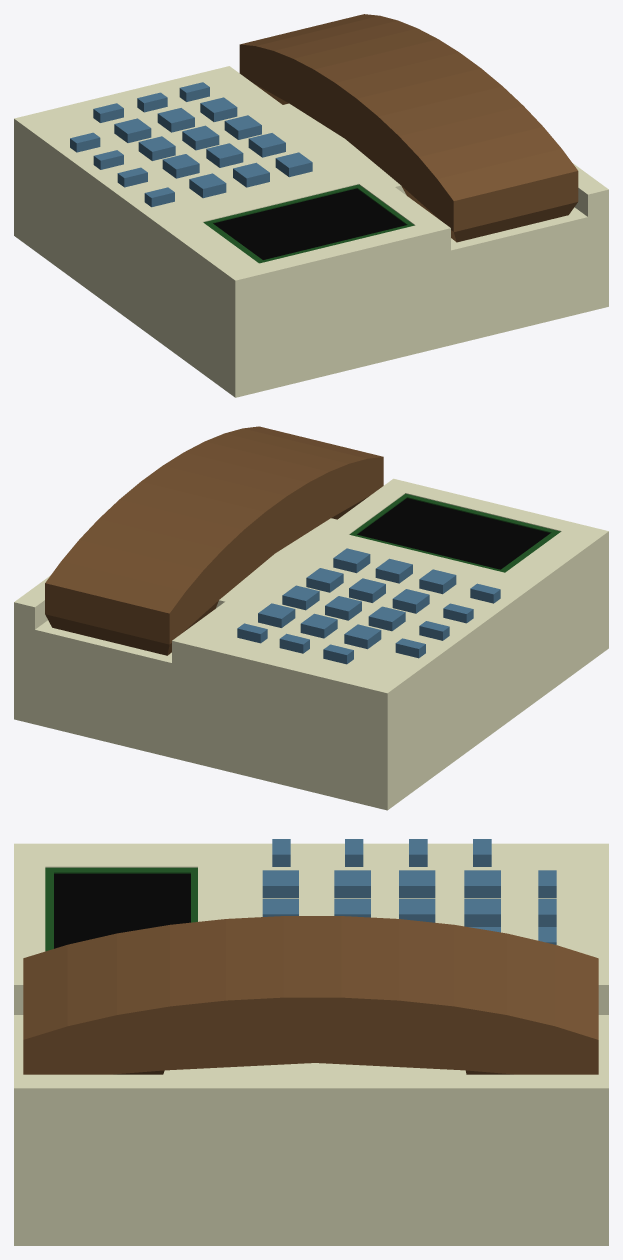
File: ReceptionPhone.fbx
The picture shows the model from 3 angles, top to bottom: view 1: azimuth 30°, elevation 25°; view 2: azimuth 150°, elevation 25°; view 3: azimuth 270°, elevation 25°; orthographic projection. The views are drawn at different scales.
Parts seen in each view (by area): view 1: Reception Phone; view 2: Reception Phone; view 3: Reception Phone.
Boxes of the visible parts, x1,y1,x2,y2 form: Reception Phone: [14, 14, 608, 397]; Reception Phone: [14, 426, 608, 810]; Reception Phone: [14, 839, 608, 1245].
Bounding box in the file's own units: 0.2261 × 0.0992 × 0.2323.
